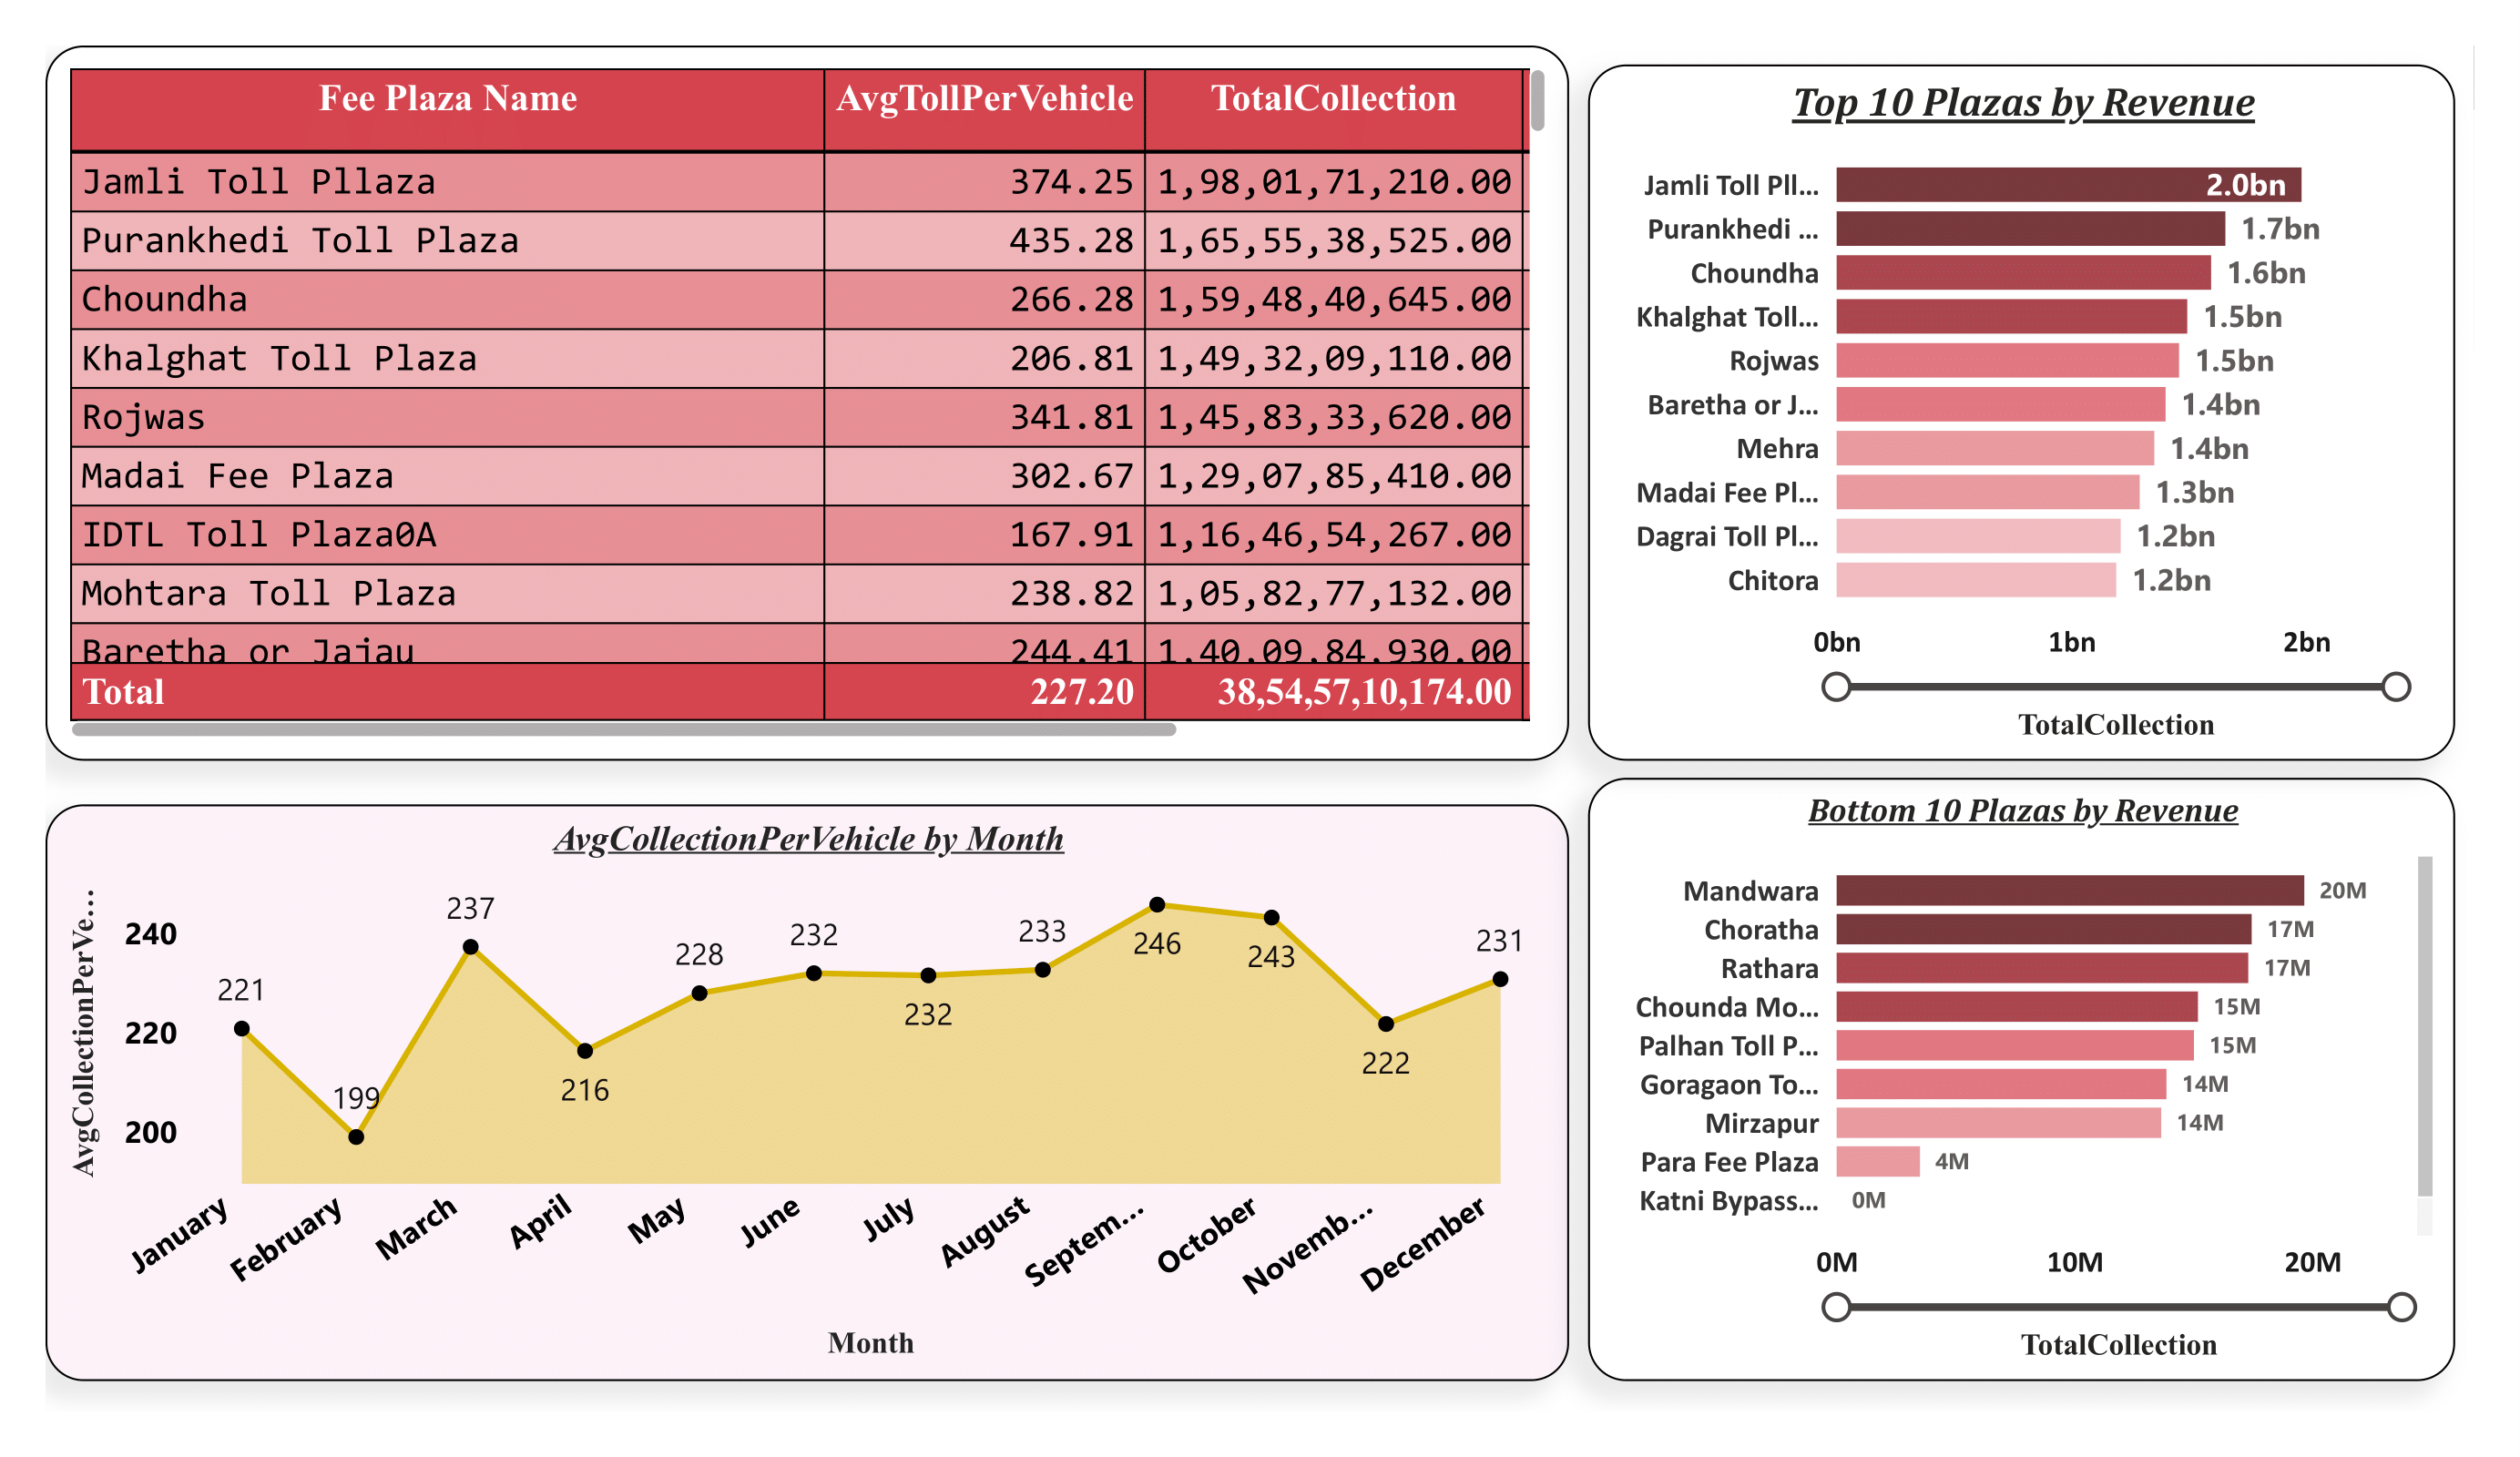

What the dashboard file says about the page in this screenshot:
{"tool":"powerbi","page":{"name":"Page 2","canvas":[1280,720],"ordinal":1},"visuals":[{"type":"tableEx","fields":{"Values":["Toll data.Fee Plaza Name","Measure Table.AvgTollPerVehicle","Measure Table.TotalCollection","Measure Table.TotalVehicles","Measure Table.YTD_coll"]},"box":[0,0,802.5,377],"z":0},{"type":"lineChart","fields":{"Category":["Toll data.Date.Variation.Date Hierarchy.Month"],"Y":["Measure Table.AvgTollPerVehicle"]},"box":[0,399.8,802.5,304.4],"z":1000},{"type":"clusteredBarChart","title":"Top 10 Plazas by Revenue","fields":{"Category":["Toll data.Fee Plaza Name"],"Y":["Measure Table.TotalCollection"]},"box":[812.6,10.2,457.4,366.8],"z":2000},{"type":"clusteredBarChart","title":"Bottom 10 Plazas by Revenue","fields":{"Category":["Toll data.Fee Plaza Name"],"Y":["Measure Table.TotalCollection"]},"box":[812.6,385.8,457.4,318.6],"z":3000}]}

Visuals, with their boxes on the page's 1280x720 design canvas (x1, y1, x2, y2). These are canvas units, not pixel positions in the 2520x1457 screenshot, which may show the page scaled, cropped or inside an application window:
tableEx - Toll data.Fee Plaza Name x Measure Table.AvgTollPerVehicle: locate(0, 0, 802, 377)
lineChart - Toll data.Date.Variation.Date Hierarchy.Month x Measure Table.AvgTollPerVehicle: locate(0, 400, 802, 704)
"Top 10 Plazas by Revenue" clusteredBarChart: locate(813, 10, 1270, 377)
"Bottom 10 Plazas by Revenue" clusteredBarChart: locate(813, 386, 1270, 704)
